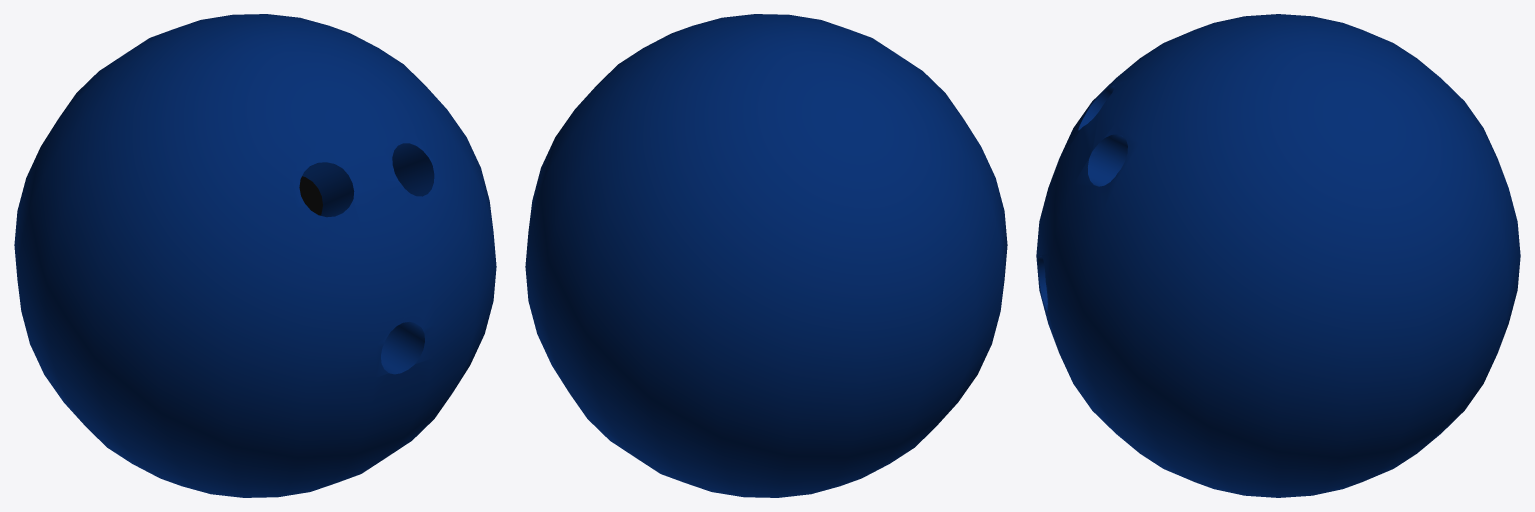
The model's file is sm_BowlingBlue.fbx.
3 renders of one model, left to right at view 1: azimuth 30°, elevation 25°; view 2: azimuth 150°, elevation 25°; view 3: azimuth 270°, elevation 25°, orthographic.
Parts seen in each view (by area): view 1: Blue1; view 2: Blue1; view 3: Blue1.
Boxes of the visible parts, bbox=[...] form: Blue1: bbox=[14, 14, 496, 497]; Blue1: bbox=[525, 14, 1007, 497]; Blue1: bbox=[1036, 14, 1520, 497].
Bounding box in the file's own units: 200 × 200 × 200.
